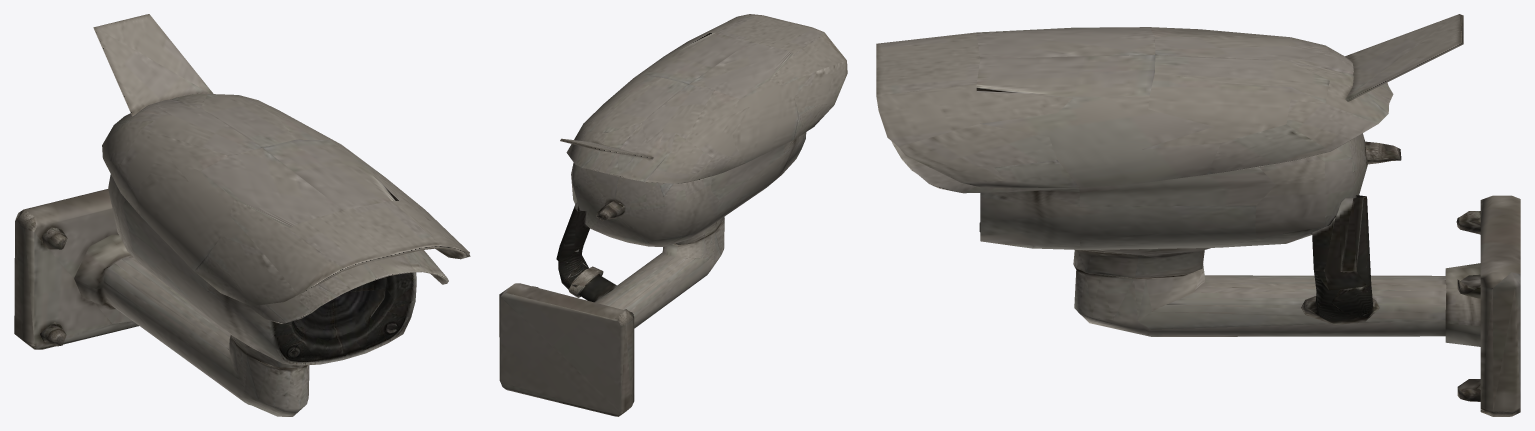
File: p7-cctv-camera-t25.glb
3 renders of one model, left to right at view 1: azimuth 30°, elevation 25°; view 2: azimuth 150°, elevation 25°; view 3: azimuth 270°, elevation 25°, orthographic. The views are drawn at different scales.
Parts seen in each view (by area): view 1: p7-cctv-camera-t25; view 2: p7-cctv-camera-t25; view 3: p7-cctv-camera-t25.
Part boxes in pixels (x1,y1,x2,y2): p7-cctv-camera-t25: (14, 14, 470, 416); p7-cctv-camera-t25: (499, 14, 847, 416); p7-cctv-camera-t25: (876, 14, 1520, 416).
Bounding box in the file's own units: 0.2 × 0.3 × 0.5.
Materials: 1 (1 with a texture image).
